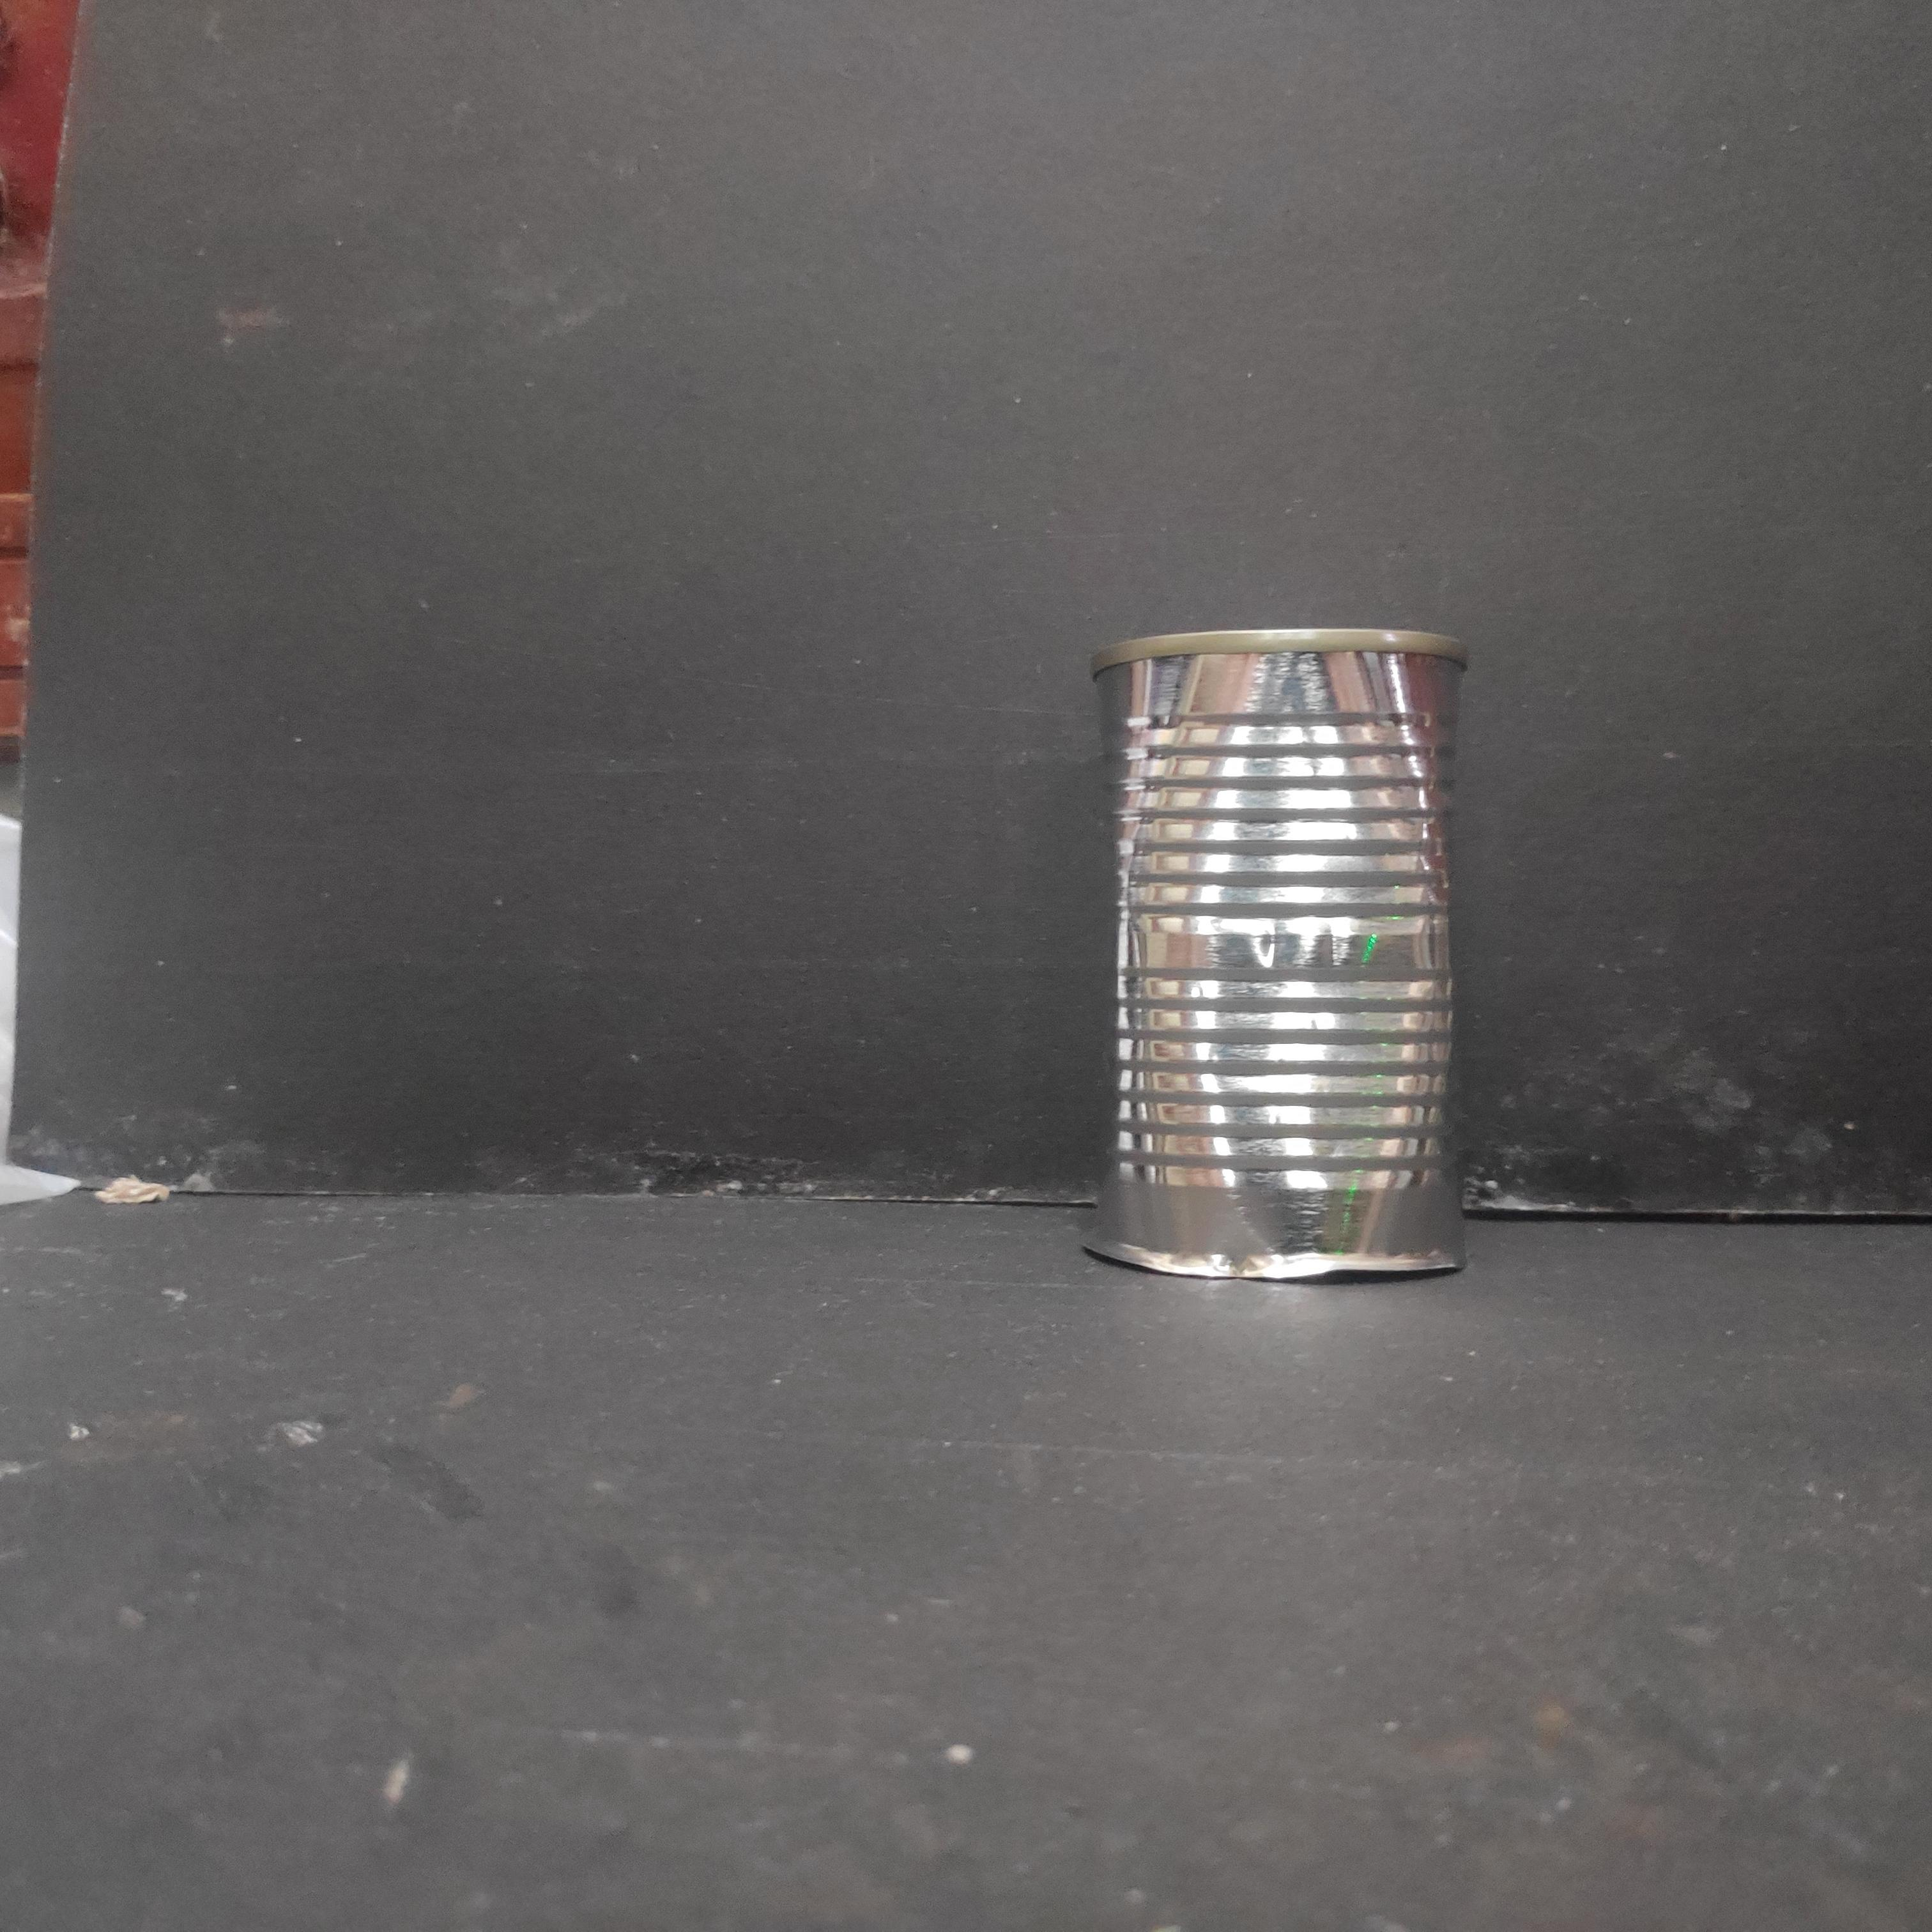Minor Defect: (1085, 623, 1479, 1290)
